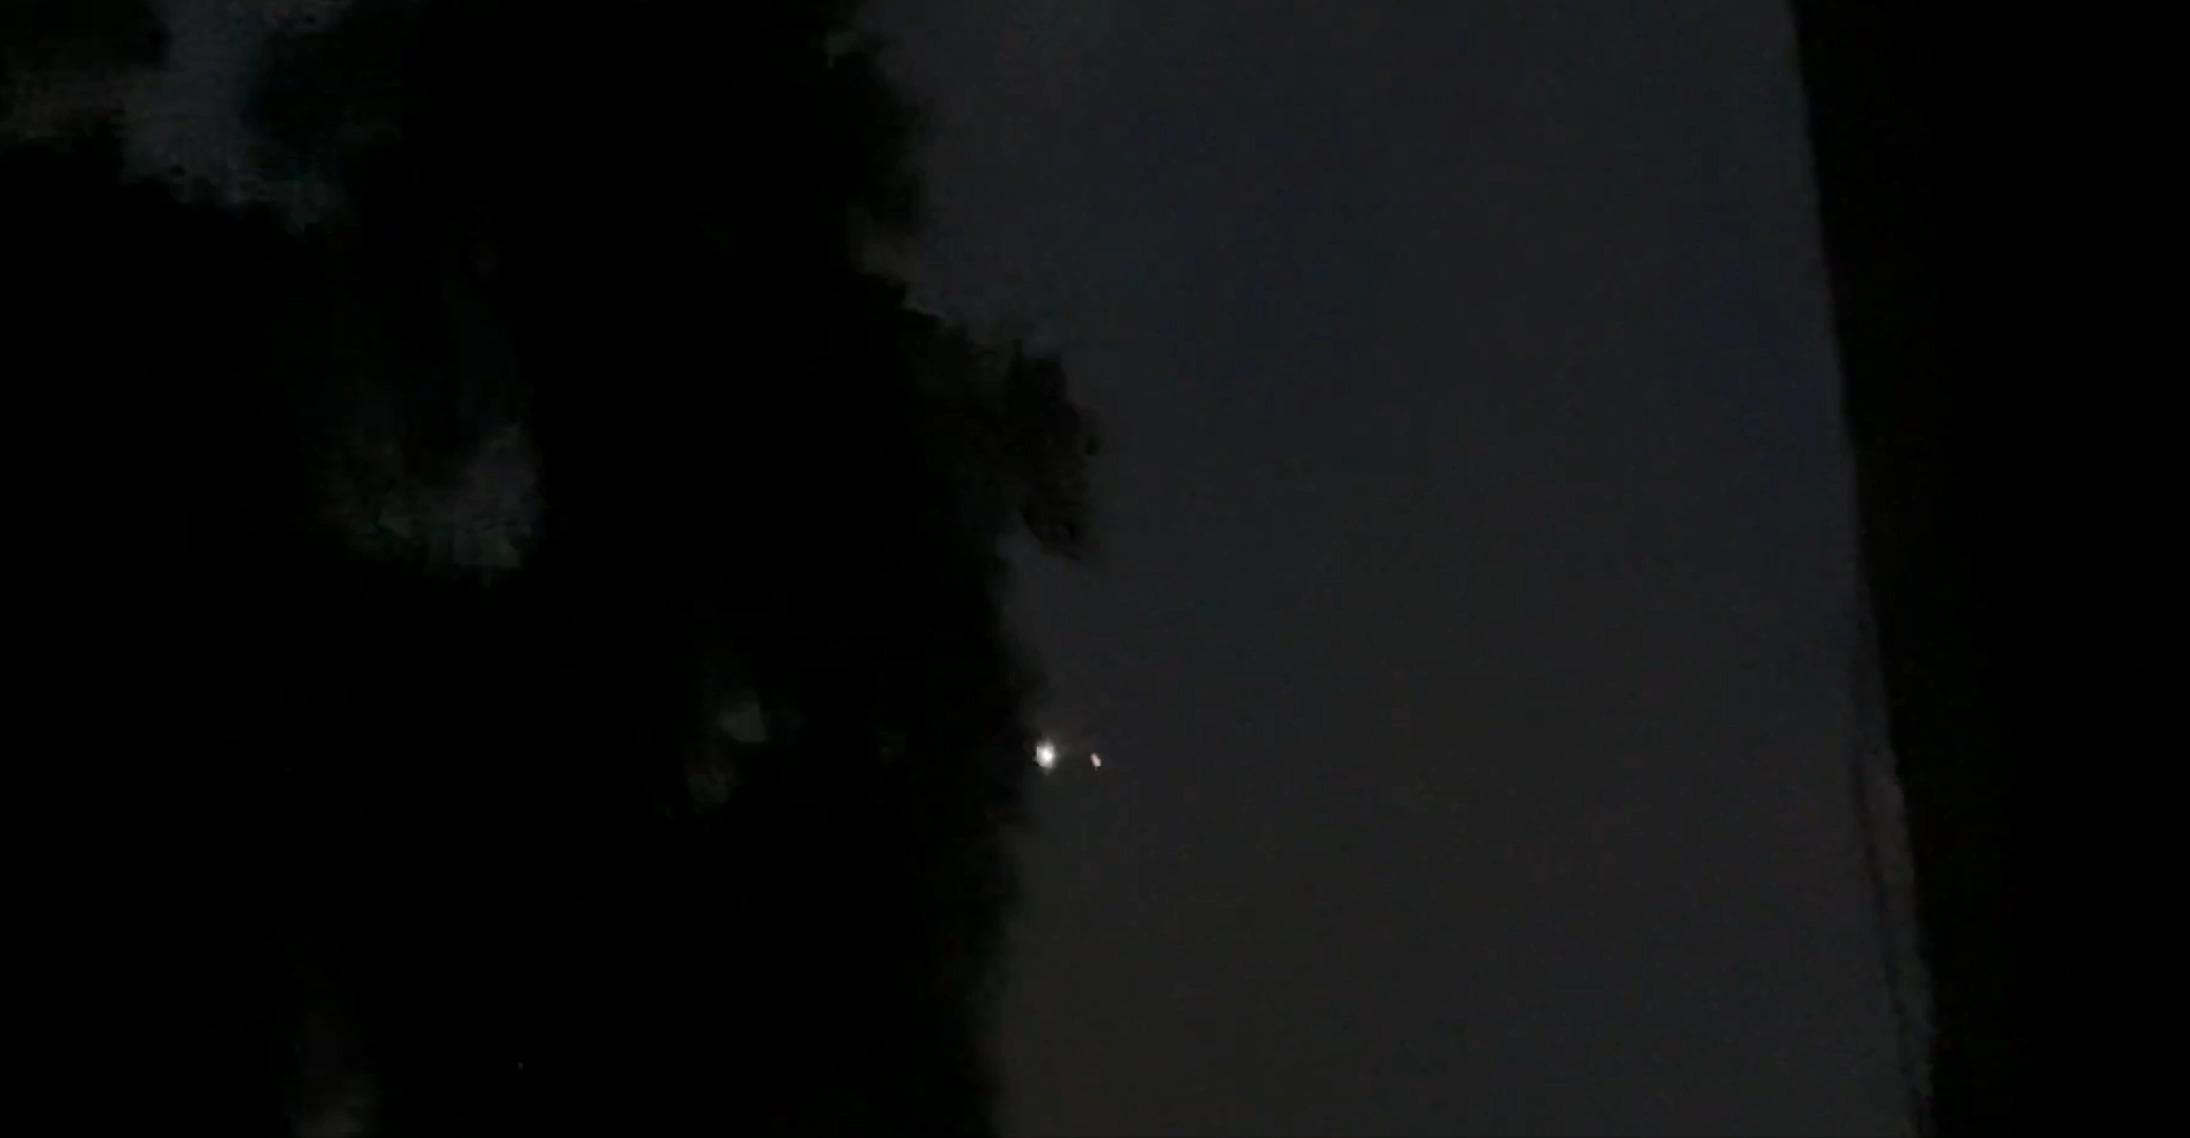Plane: (1020, 725, 1118, 812)
